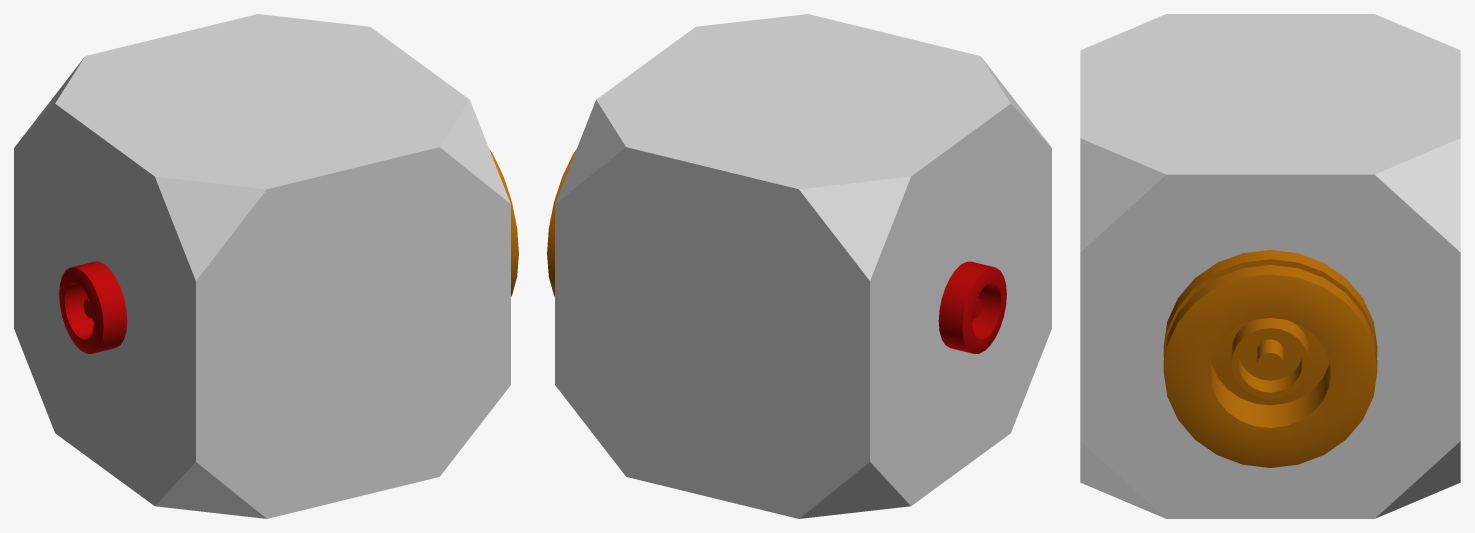
File: PowerConverter.gltf
3 renders of one model, left to right at view 1: azimuth 30°, elevation 25°; view 2: azimuth 150°, elevation 25°; view 3: azimuth 270°, elevation 25°, orthographic. The views are drawn at different scales.
Visible parts, largest first — view 1: base; view 2: base; view 3: base.
Boxes of the visible parts, x1,y1,x2,y2 form: base: (14, 14, 518, 518); base: (547, 14, 1051, 518); base: (1080, 14, 1460, 518).
Size of the model in its own units: 0.3121 by 0.25 by 0.25.
